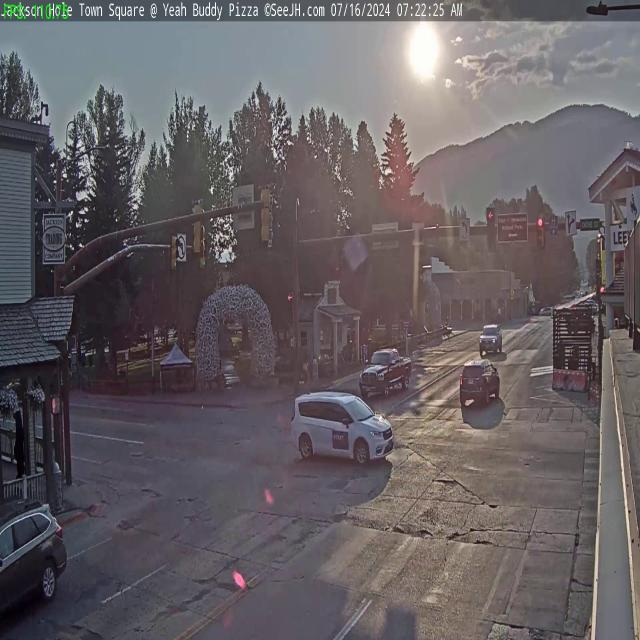minivan: (289, 389, 394, 469)
pickup: (356, 346, 413, 396)
suv: (0, 498, 70, 632), (459, 359, 500, 408), (479, 324, 502, 354)
traffic light: (260, 184, 273, 246), (190, 199, 203, 254), (486, 208, 496, 255), (170, 232, 179, 272), (536, 215, 544, 248)
